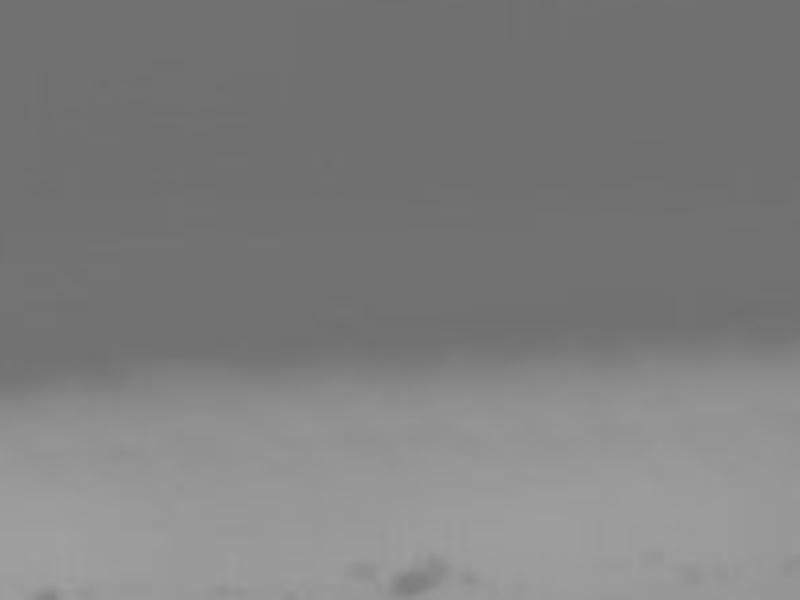defect: (387, 569, 442, 596), (674, 558, 709, 589), (342, 555, 381, 582), (420, 551, 449, 573), (454, 566, 479, 589), (640, 548, 664, 570)
